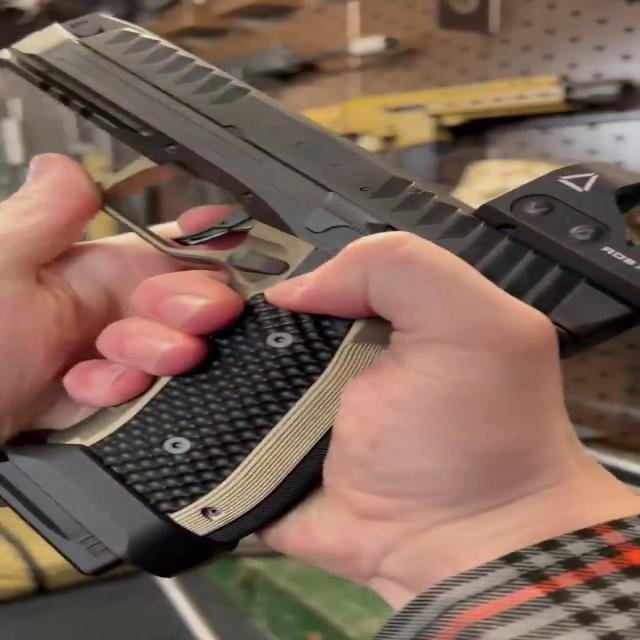Handgun: (0, 2, 609, 602)
